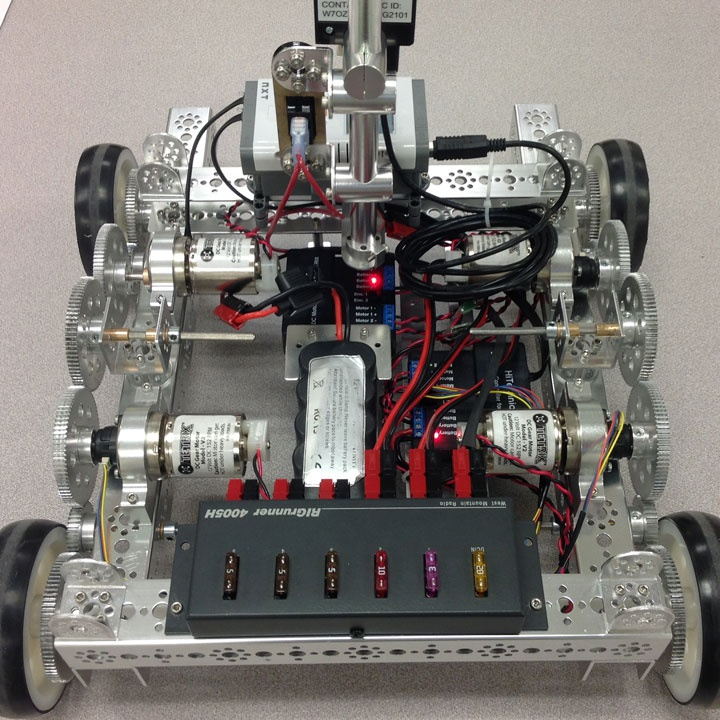robot: (4, 2, 717, 719)
